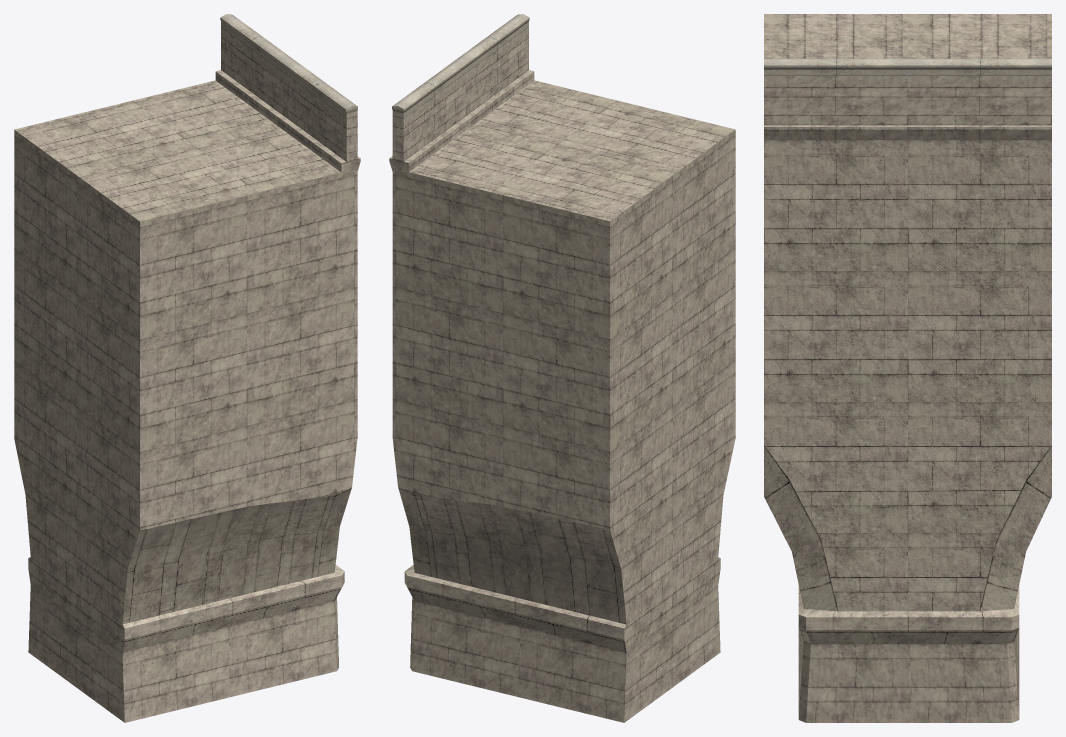
File: SupportMarbleRight.dae
3 renders of one model, left to right at view 1: azimuth 30°, elevation 25°; view 2: azimuth 150°, elevation 25°; view 3: azimuth 270°, elevation 25°, orthographic. The views are drawn at different scales.
Parts seen in each view (by area): view 1: SupportMarbleRight; view 2: SupportMarbleRight; view 3: SupportMarbleRight.
Part boxes in pixels (box(x1,y1,x2,y2)): SupportMarbleRight: box(14, 14, 360, 722); SupportMarbleRight: box(389, 14, 735, 722); SupportMarbleRight: box(764, 14, 1051, 722).
Size of the model in its own units: 4.1 by 10.12 by 4.
2 materials, 2 textured.
